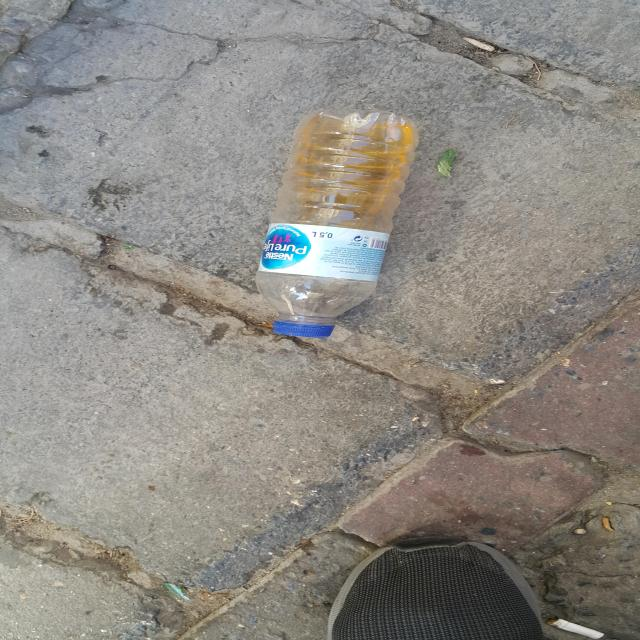litter: (190, 124, 565, 214), (567, 174, 601, 206)
